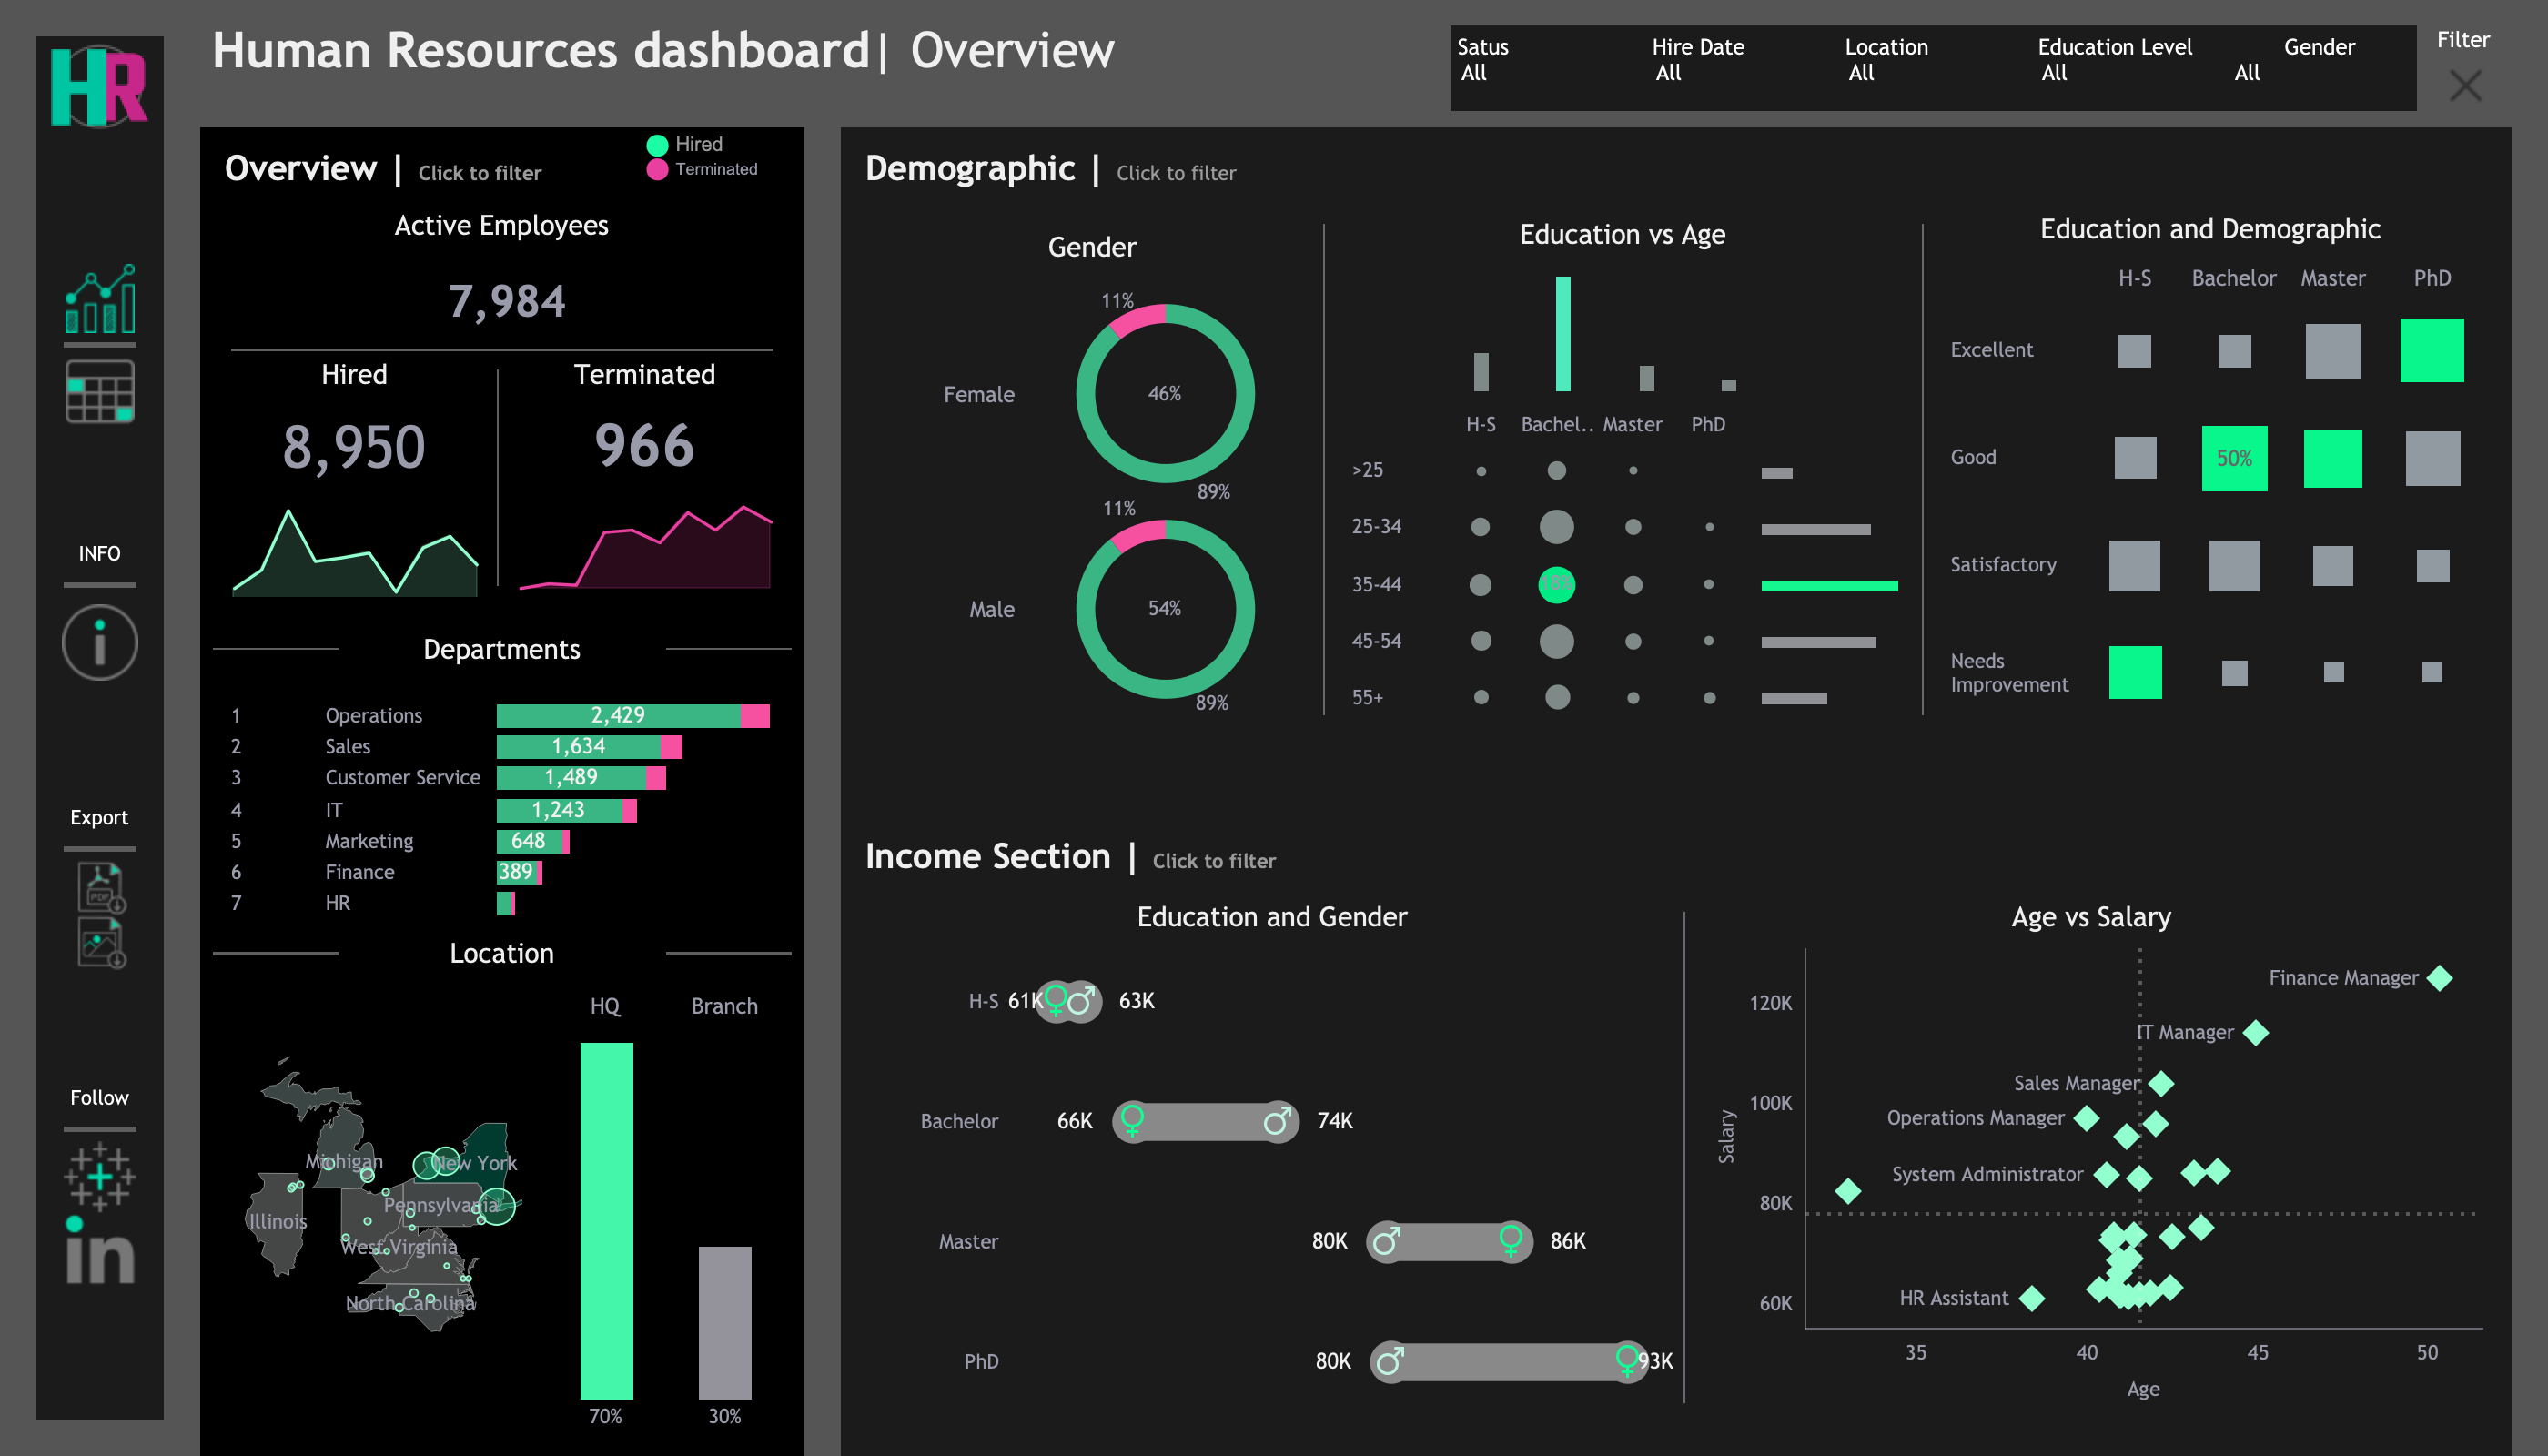

The dashboard page shown, as its layout file describes it:
{"tool":"tableau","page":{"name":"HR Summary","canvas":[1400,800],"ordinal":1},"visuals":[{"type":"text","box":[110,0,681,70]},{"type":"blank","box":[791,0,589,70]},{"type":"text","box":[1331,9,46,25]},{"type":"filter","title":"Edu vs Salary vs Gender","param":"[federated.11joxd20mgz9km0zjjh0x1ad9nzz].[none:Calculation_2443273218291728384:n","box":[797,14,107,47]},{"type":"filter","title":"Edu vs Salary vs Gender","param":"[federated.11joxd20mgz9km0zjjh0x1ad9nzz].[yr:Hiredate:ok]","box":[904,14,106,47]},{"type":"filter","title":"Edu vs Salary vs Gender","param":"[federated.11joxd20mgz9km0zjjh0x1ad9nzz].[none:Calculation_4576220222816935936:n","box":[1010,14,106,47]},{"type":"filter","title":"Edu vs Salary vs Gender","param":"[federated.11joxd20mgz9km0zjjh0x1ad9nzz].[none:Education Level:nk]","box":[1116,14,106,47]},{"type":"filter","title":"Edu vs Salary vs Gender","param":"[federated.11joxd20mgz9km0zjjh0x1ad9nzz].[none:Gender:nk]","box":[1222,14,106,47]},{"type":"image","param":"Image/Logo.png","box":[20,20,70,55]},{"type":"dashboard-object","box":[1333,34,44,26]},{"type":"text","box":[352,71,80,30]},{"type":"blank","box":[20,75,70,60]},{"type":"text","box":[117,77,318,31]},{"type":"text","box":[469,77,904,31]},{"type":"text","box":[117,108,318,32]},{"type":"blank","box":[727,113,1,290]},{"type":"text","box":[733,113,318,32]},{"type":"blank","box":[1056,113,1,290]},{"type":"text","box":[1062,113,306,26]},{"type":"text","box":[479,118,243,35]},{"type":"worksheet","title":"Edu vs performance","mark":"Square","rows":["Performance Rating"],"cols":["Education Level"],"box":[1062,139,306,264]},{"type":"worksheet","title":"BAN active-o","mark":"Text","box":[117,140,318,52]},{"type":"dashboard-object","box":[30,145,50,38]},{"type":"worksheet","title":"Edu group ","mark":"Bar","rows":["Calculation_3379458990578917376"],"cols":["Education Level"],"box":[733,145,318,74]},{"type":"worksheet","title":"Gender","mark":"Pie","rows":["Gender"],"cols":["Calculation_4576220222824701954","Calculation_4576220222824701954"],"box":[479,153,243,245]},{"type":"blank","box":[30,183,50,13]},{"type":"blank","box":[117,192,318,1]},{"type":"text","box":[117,193,156,26]},{"type":"blank","box":[273,193,1,139]},{"type":"text","box":[274,193,161,26]},{"type":"dashboard-object","box":[30,196,50,38]},{"type":"worksheet","title":"BAN hired-o","mark":"Text","box":[117,219,156,54]},{"type":"worksheet","title":"BAN Terminated-o","mark":"Text","box":[274,219,161,52]},{"type":"worksheet","title":"Edu vs Age","mark":"Circle","rows":["Calculation_5768900068075204609"],"cols":["Education Level"],"box":[733,219,231,184]},{"type":"worksheet","title":"Age group","mark":"Bar","rows":["Calculation_5768900068075204609"],"cols":["Calculation_3379458990578917376"],"box":[964,219,87,184]},{"type":"blank","box":[30,234,50,60]},{"type":"worksheet","title":"Terminated by Year-o ","mark":"Line","rows":["Calculation_3379458990579494913","Calculation_3379458990579494913"],"cols":["Termdate"],"box":[274,271,161,59]},{"type":"worksheet","title":"Hired by Year-o","mark":"Line","rows":["Calculation_3379458990578917376","Calculation_3379458990578917376"],"cols":["Hiredate"],"box":[117,273,156,59]},{"type":"text","box":[30,294,50,21]},{"type":"blank","box":[30,315,50,13]},{"type":"dashboard-object","box":[30,328,50,50]},{"type":"blank","box":[117,332,69,49]},{"type":"text","box":[186,332,180,49]},{"type":"blank","box":[366,332,69,49]},{"type":"text","box":[91,352,1308,215]},{"type":"blank","box":[30,378,50,60]},{"type":"worksheet","title":"Departments-0","mark":"Bar","rows":["Calculation_3379458990585761796","Department"],"cols":["Calculation_3379458990578917376"],"box":[117,381,318,128]},{"type":"text","box":[30,438,50,22]},{"type":"text","box":[469,455,904,31]},{"type":"blank","box":[30,460,50,13]},{"type":"dashboard-object","box":[30,473,50,30]},{"type":"text","box":[474,491,451,26]},{"type":"blank","box":[925,491,1,290]},{"type":"text","box":[931,491,437,26]},{"type":"dashboard-object","box":[30,503,50,30]},{"type":"blank","box":[117,509,69,30]},{"type":"text","box":[186,509,180,30]},{"type":"blank","box":[366,509,69,30]},{"type":"worksheet","title":"Edu vs Salary vs Gender","mark":"Line","rows":["Education Level"],"cols":["Salary","Salary"],"box":[474,517,451,264]},{"type":"worksheet","title":"age vs salary","mark":"Shape","rows":["Salary"],"cols":["Calculation_5768900068074090496"],"box":[931,517,437,264]},{"type":"blank","box":[30,533,50,60]},{"type":"worksheet","title":"map states-0","mark":"Automatic","box":[117,539,179,254]},{"type":"worksheet","title":"Location-0","mark":"Bar","rows":["Calculation_3379458990578917376"],"cols":["Calculation_4576220222816935936","Calculation1"],"box":[296,539,139,254]},{"type":"blank","box":[91,567,1308,232]},{"type":"text","box":[30,593,50,21]},{"type":"blank","box":[30,614,50,13]},{"type":"image","param":"Image/contact-public.png","box":[30,627,50,40]},{"type":"image","param":"Image/contact-linkedin.png","box":[30,667,50,40]}]}

Visuals, with their boxes in screenshot pixels (x1, y1, x2, y2), scaled from the page's 1400x800 canvas onto the 2548x1456 screenshot:
text: <region>200, 0, 1440, 127</region>
blank: <region>1440, 0, 2512, 127</region>
text: <region>2422, 16, 2506, 62</region>
"Edu vs Salary vs Gender" filter: <region>1451, 25, 1645, 111</region>
"Edu vs Salary vs Gender" filter: <region>1645, 25, 1838, 111</region>
"Edu vs Salary vs Gender" filter: <region>1838, 25, 2031, 111</region>
"Edu vs Salary vs Gender" filter: <region>2031, 25, 2224, 111</region>
"Edu vs Salary vs Gender" filter: <region>2224, 25, 2417, 111</region>
image: <region>36, 36, 164, 136</region>
dashboard-object: <region>2426, 62, 2506, 109</region>
text: <region>641, 129, 786, 184</region>
blank: <region>36, 136, 164, 246</region>
text: <region>213, 140, 792, 197</region>
text: <region>854, 140, 2499, 197</region>
text: <region>213, 197, 792, 255</region>
blank: <region>1323, 206, 1325, 733</region>
text: <region>1334, 206, 1913, 264</region>
blank: <region>1922, 206, 1924, 733</region>
text: <region>1933, 206, 2490, 253</region>
text: <region>872, 215, 1314, 278</region>
"Edu vs performance" worksheet (Square marks): <region>1933, 253, 2490, 733</region>
"BAN active-o" worksheet (Text marks): <region>213, 255, 792, 349</region>
dashboard-object: <region>55, 264, 146, 333</region>
"Edu group " worksheet (Bar marks): <region>1334, 264, 1913, 399</region>
"Gender" worksheet (Pie marks): <region>872, 278, 1314, 724</region>
blank: <region>55, 333, 146, 357</region>
blank: <region>213, 349, 792, 351</region>
text: <region>213, 351, 497, 399</region>
blank: <region>497, 351, 499, 604</region>
text: <region>499, 351, 792, 399</region>
dashboard-object: <region>55, 357, 146, 426</region>
"BAN hired-o" worksheet (Text marks): <region>213, 399, 497, 497</region>
"BAN Terminated-o" worksheet (Text marks): <region>499, 399, 792, 493</region>
"Edu vs Age" worksheet (Circle marks): <region>1334, 399, 1754, 733</region>
"Age group" worksheet (Bar marks): <region>1754, 399, 1913, 733</region>
blank: <region>55, 426, 146, 535</region>
"Terminated by Year-o " worksheet (Line marks): <region>499, 493, 792, 601</region>
"Hired by Year-o" worksheet (Line marks): <region>213, 497, 497, 604</region>
text: <region>55, 535, 146, 573</region>
blank: <region>55, 573, 146, 597</region>
dashboard-object: <region>55, 597, 146, 688</region>
blank: <region>213, 604, 339, 693</region>
text: <region>339, 604, 666, 693</region>
blank: <region>666, 604, 792, 693</region>
text: <region>166, 641, 2546, 1032</region>
blank: <region>55, 688, 146, 797</region>
"Departments-0" worksheet (Bar marks): <region>213, 693, 792, 926</region>
text: <region>55, 797, 146, 837</region>
text: <region>854, 828, 2499, 885</region>
blank: <region>55, 837, 146, 861</region>
dashboard-object: <region>55, 861, 146, 915</region>
text: <region>863, 894, 1683, 941</region>
blank: <region>1683, 894, 1685, 1421</region>
text: <region>1694, 894, 2490, 941</region>
dashboard-object: <region>55, 915, 146, 970</region>
blank: <region>213, 926, 339, 981</region>
text: <region>339, 926, 666, 981</region>
blank: <region>666, 926, 792, 981</region>
"Edu vs Salary vs Gender" worksheet (Line marks): <region>863, 941, 1683, 1421</region>
"age vs salary" worksheet (Shape marks): <region>1694, 941, 2490, 1421</region>
blank: <region>55, 970, 146, 1079</region>
"map states-0" worksheet: <region>213, 981, 539, 1443</region>
"Location-0" worksheet (Bar marks): <region>539, 981, 792, 1443</region>
blank: <region>166, 1032, 2546, 1454</region>
text: <region>55, 1079, 146, 1117</region>
blank: <region>55, 1117, 146, 1141</region>
image: <region>55, 1141, 146, 1214</region>
image: <region>55, 1214, 146, 1287</region>
